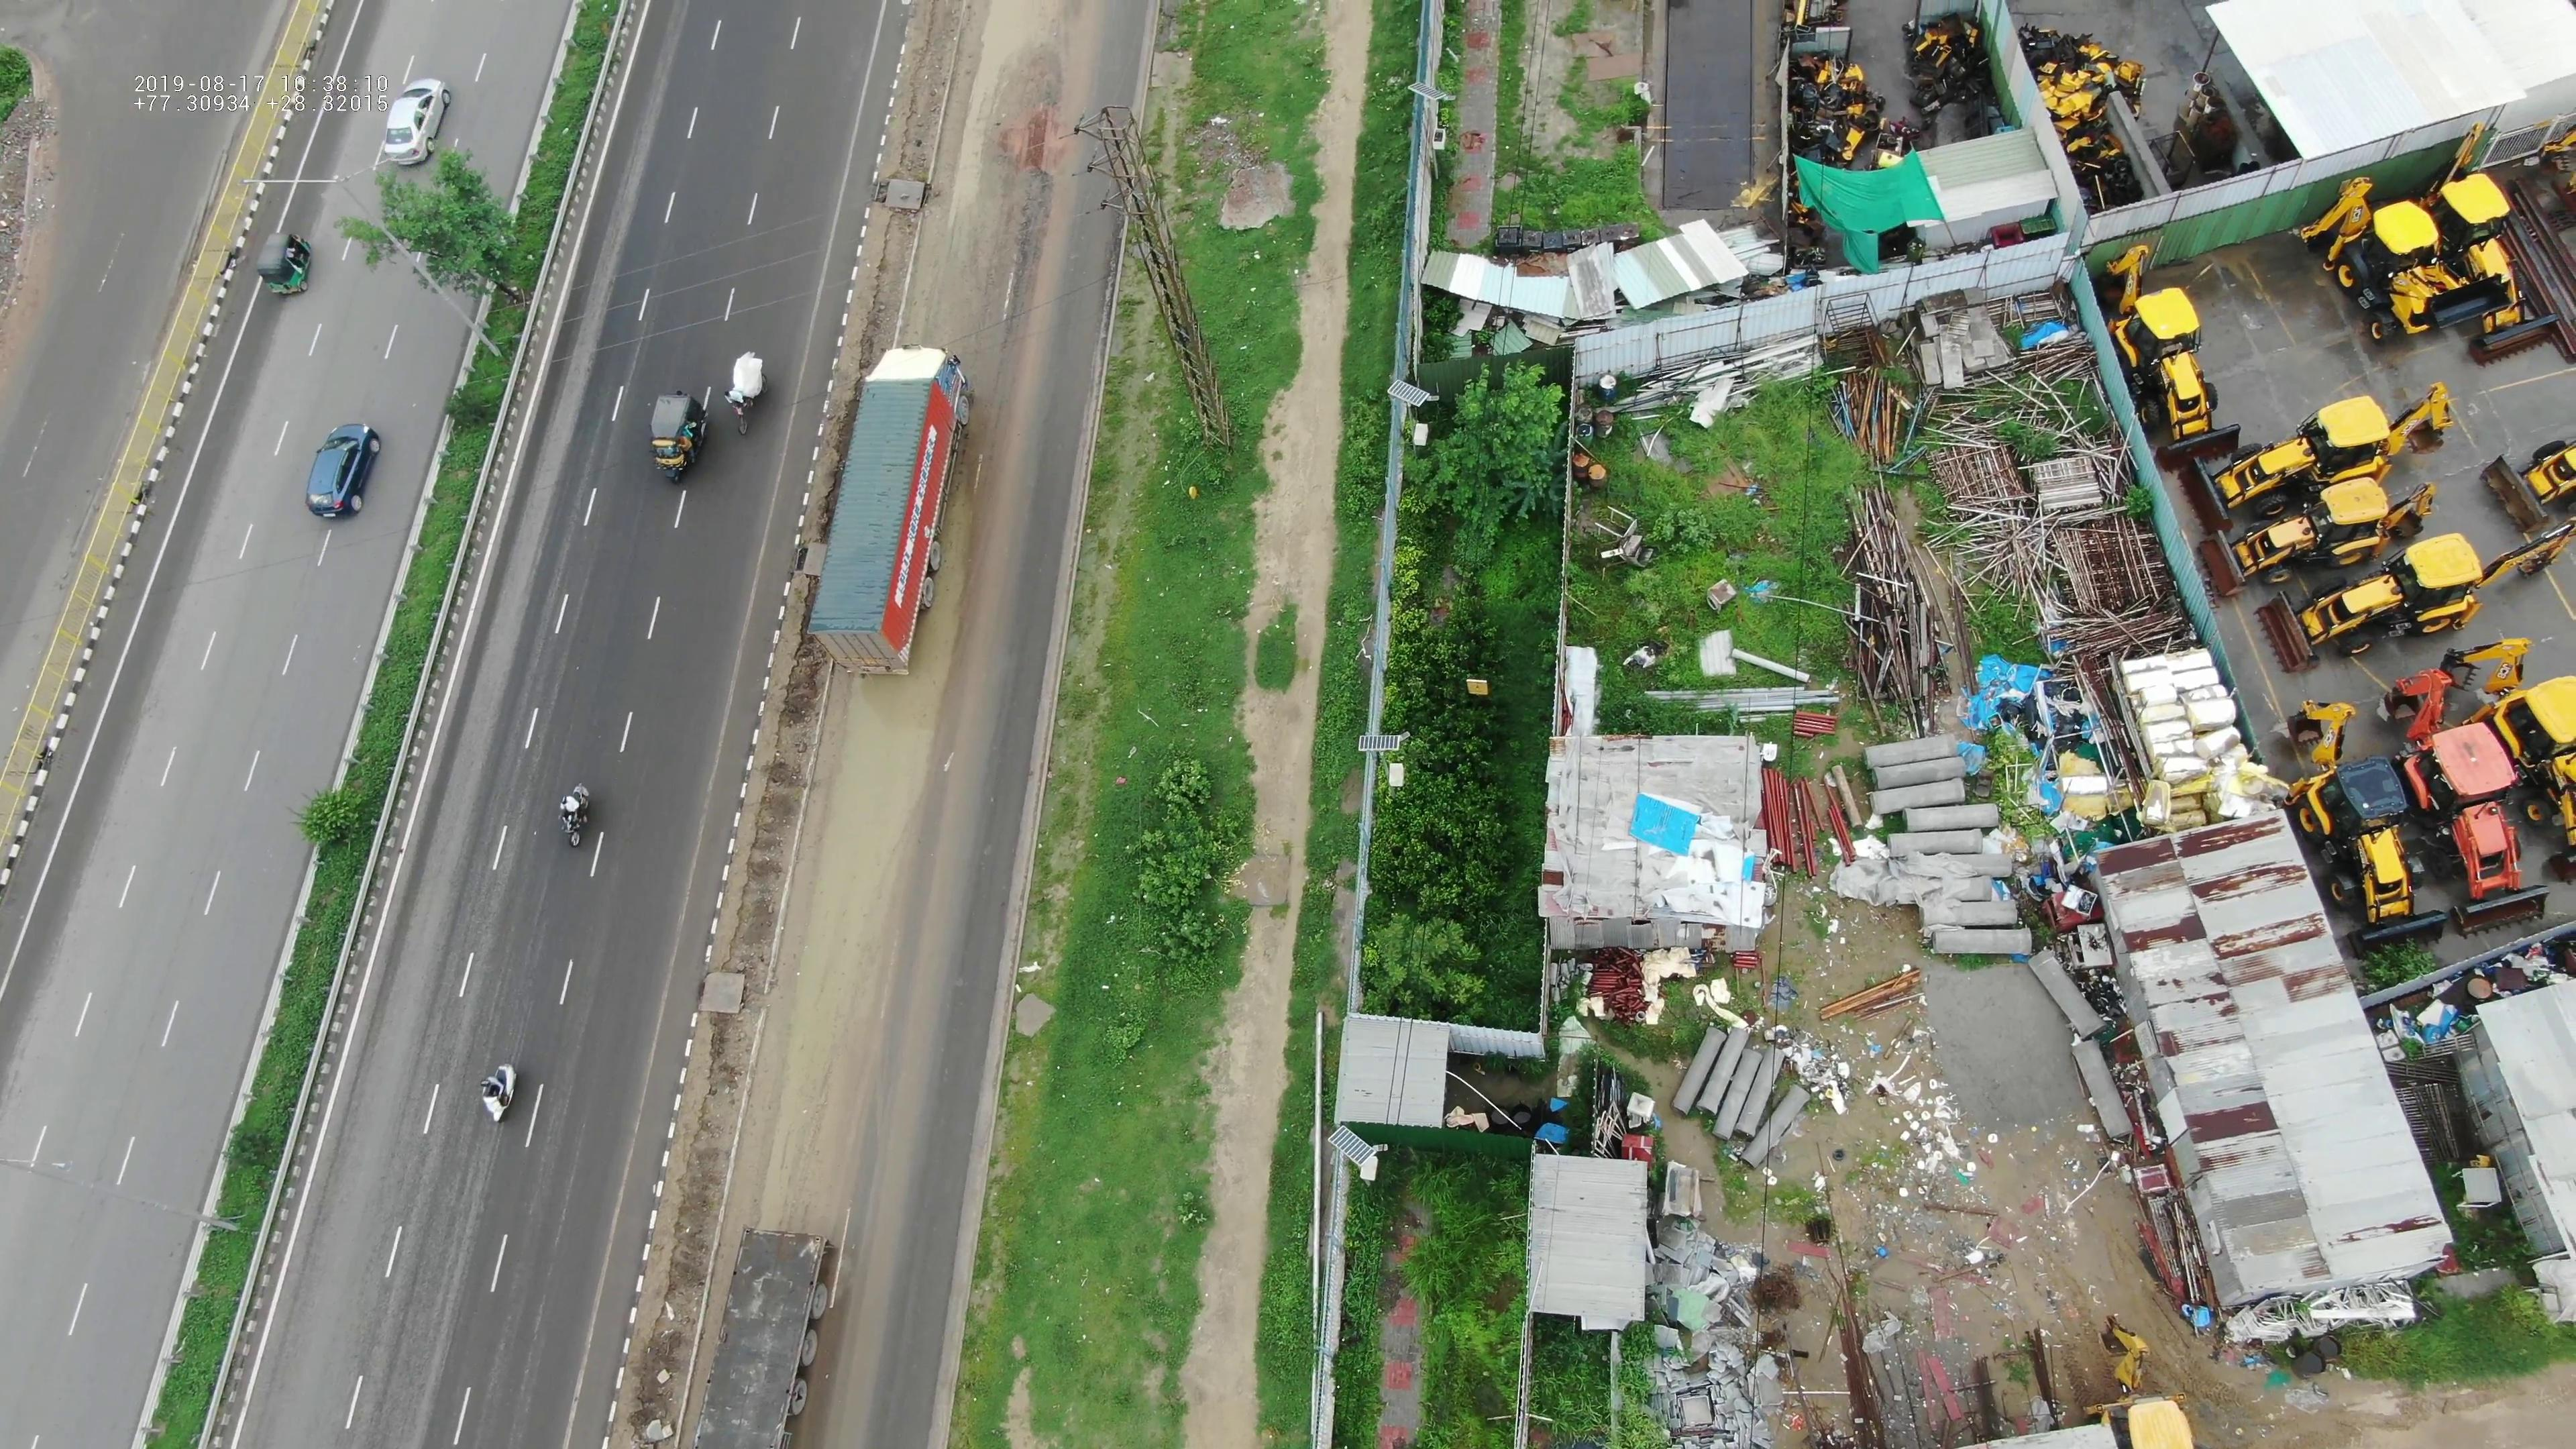Muddy_road: (763, 791, 908, 1185), (931, 7, 1069, 359)
